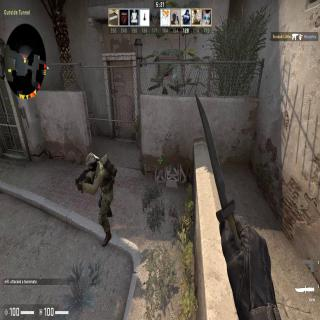CT-Body: (84, 145, 114, 226)
CT-Head: (86, 154, 98, 172)
